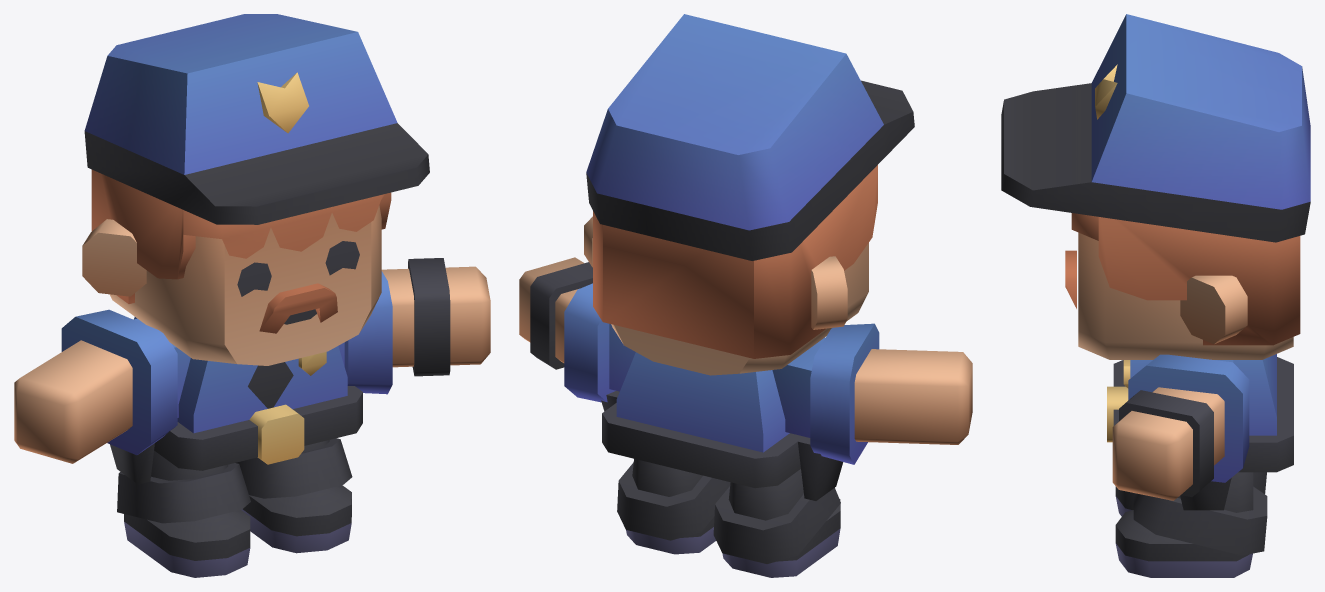
Rendered from character-male-c.obj.
3 renders of one model, left to right at view 1: azimuth 30°, elevation 25°; view 2: azimuth 150°, elevation 25°; view 3: azimuth 270°, elevation 25°, orthographic. The views are drawn at different scales.
Parts seen in each view (by area): view 1: head-mesh, body-mesh; view 2: head-mesh, body-mesh; view 3: head-mesh, body-mesh.
Part boxes in pixels (box(x1,y1,x2,y2)): head-mesh: box(82, 14, 429, 365); body-mesh: box(14, 258, 490, 577); head-mesh: box(584, 14, 914, 375); body-mesh: box(519, 257, 972, 577); head-mesh: box(1001, 14, 1310, 359); body-mesh: box(1107, 354, 1293, 577).
Size of the model in its own units: 0.7672 by 0.7928 by 0.4607.
1 material, 1 textured.
